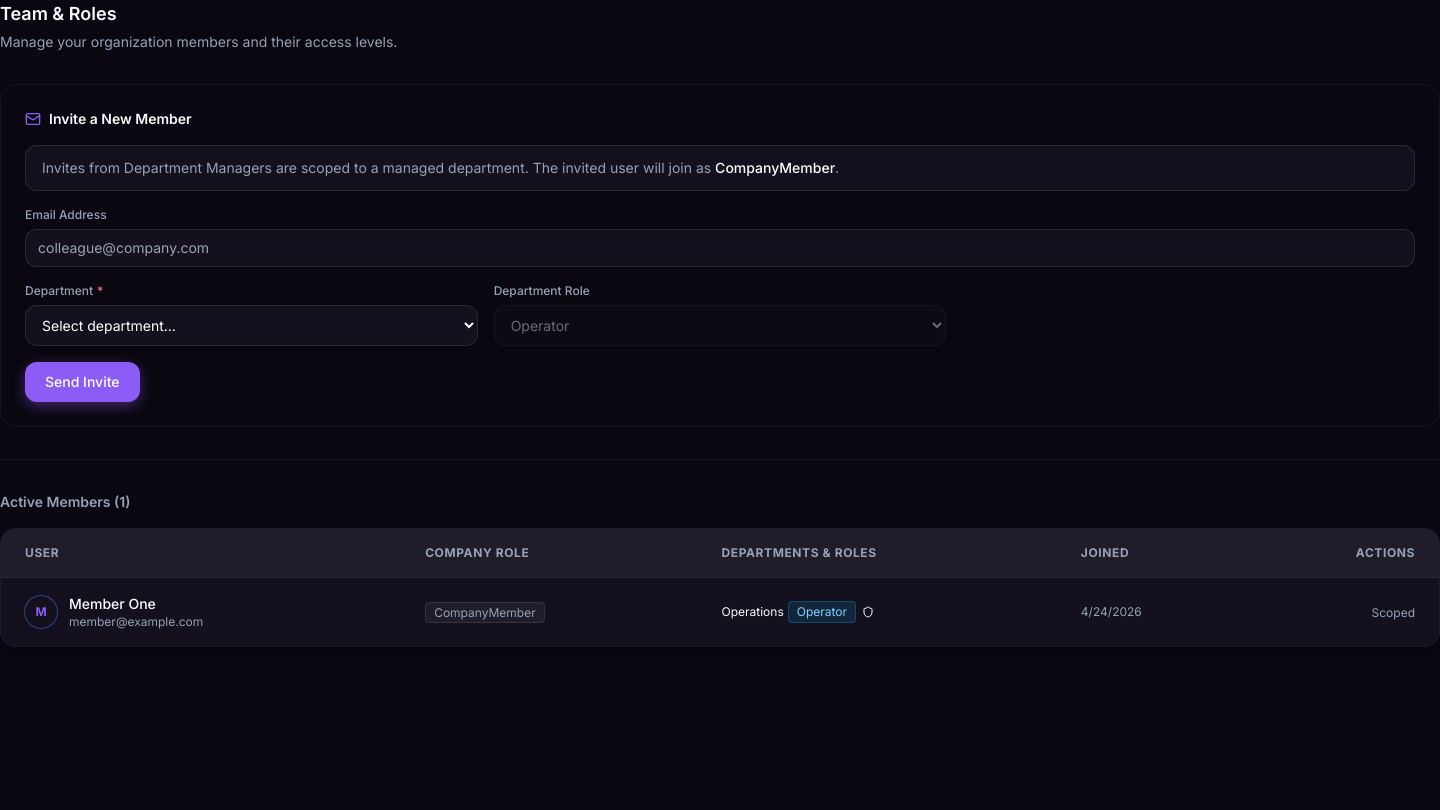
Scenario: TeamTab › does not offer DepartmentManager role controls to department managers
Expected: the text "Member One" is shown, [69,595,156,612]
Click the button titled "Edit role in Operations".
click(868, 612)  # box [860,604,876,620]
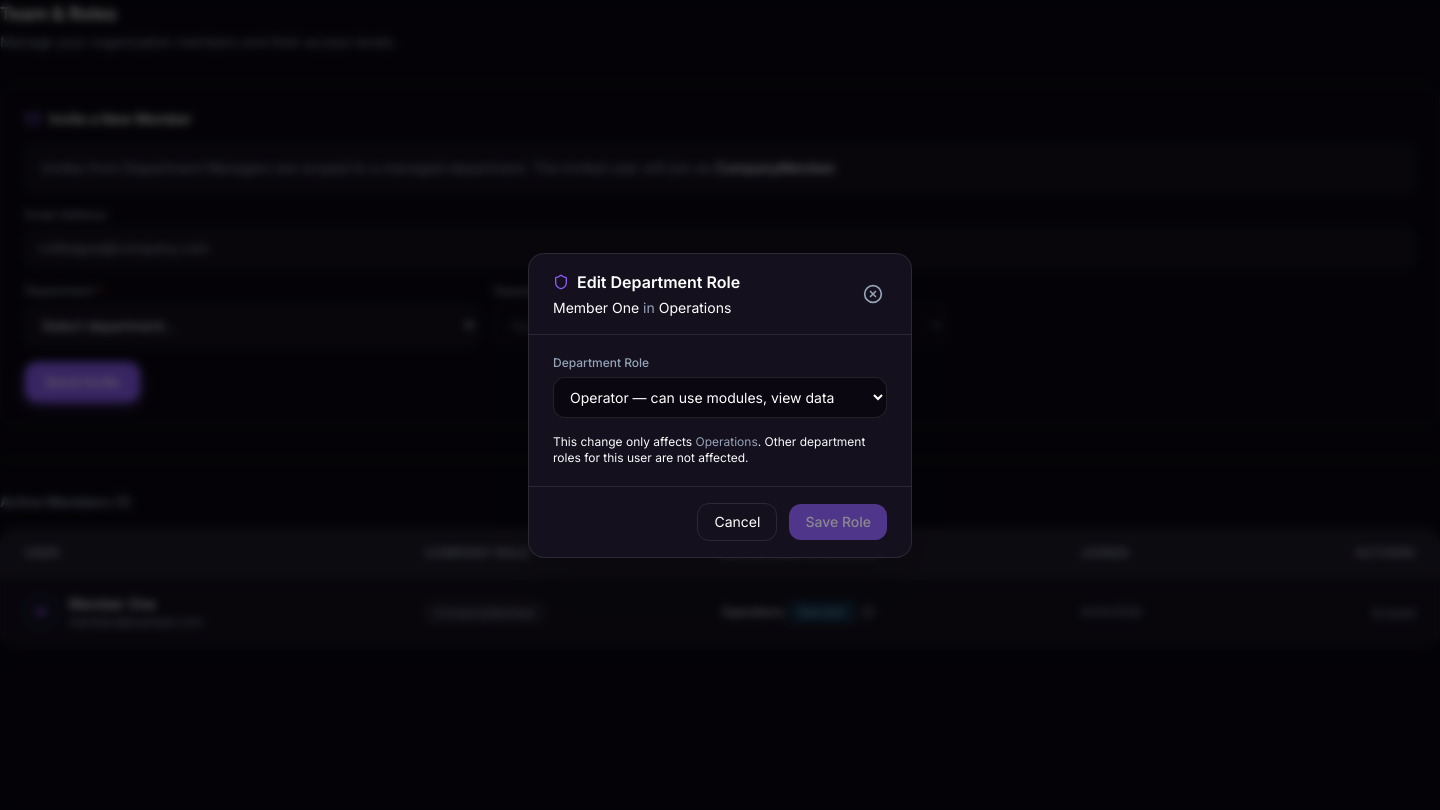
Expected: the dropdown with test id "dept-role-editor-select" is shown, [553,376,887,418]
